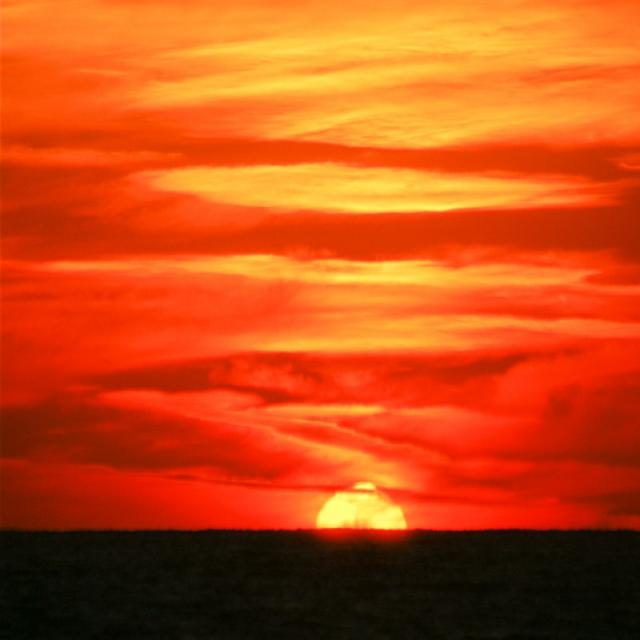no_fire: (45, 87, 610, 602)
